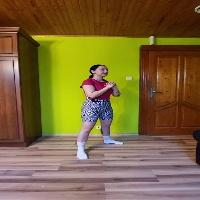squats: (72, 64, 126, 168)
